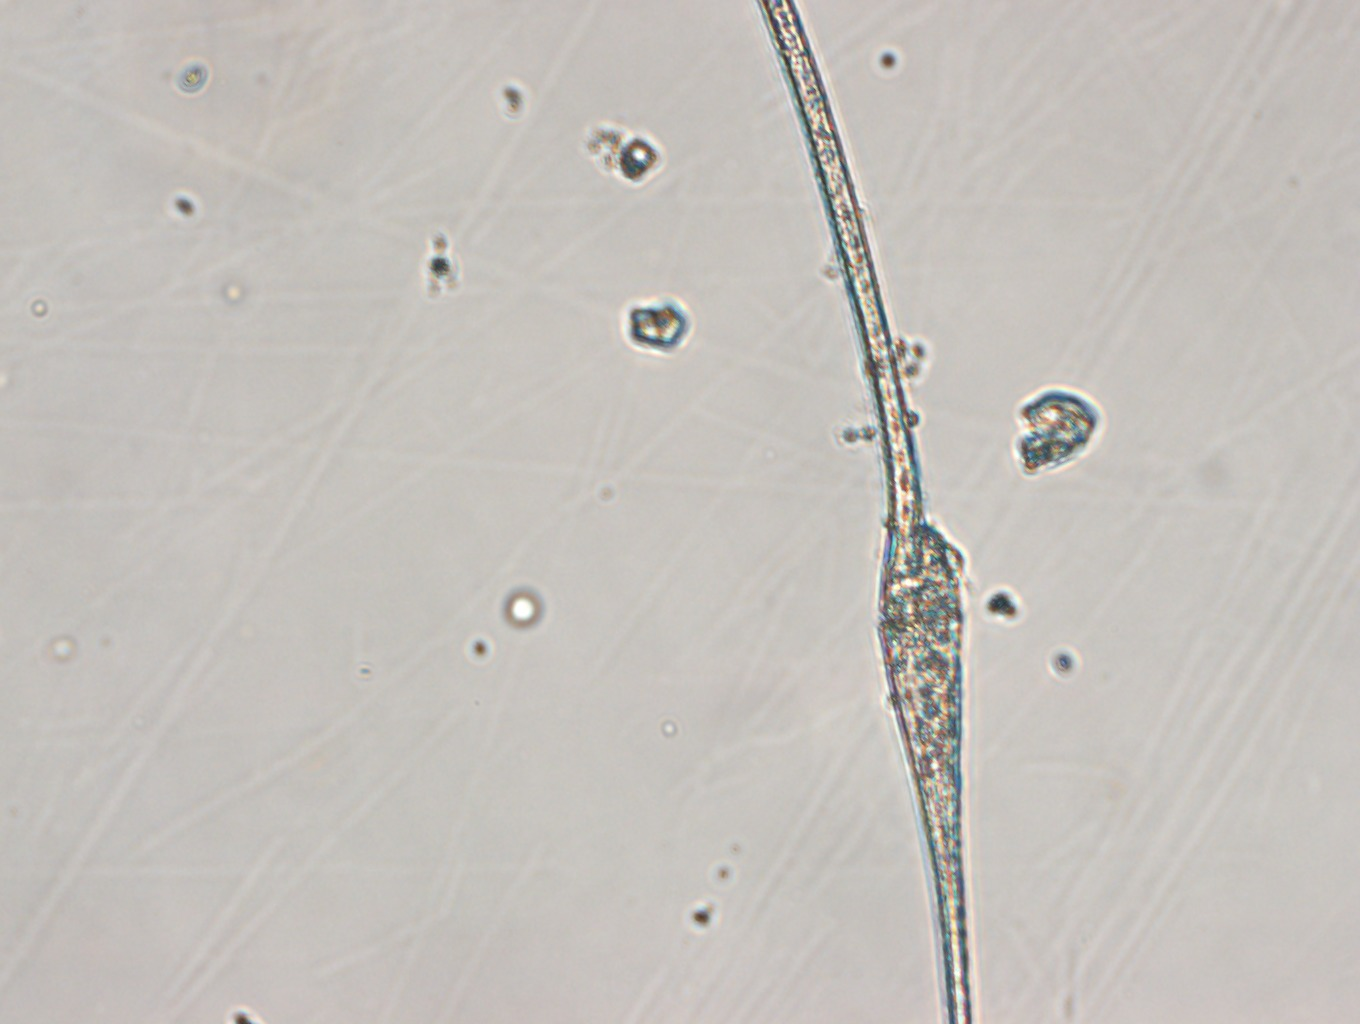ceratium fusus: (756, 1, 987, 1024)
